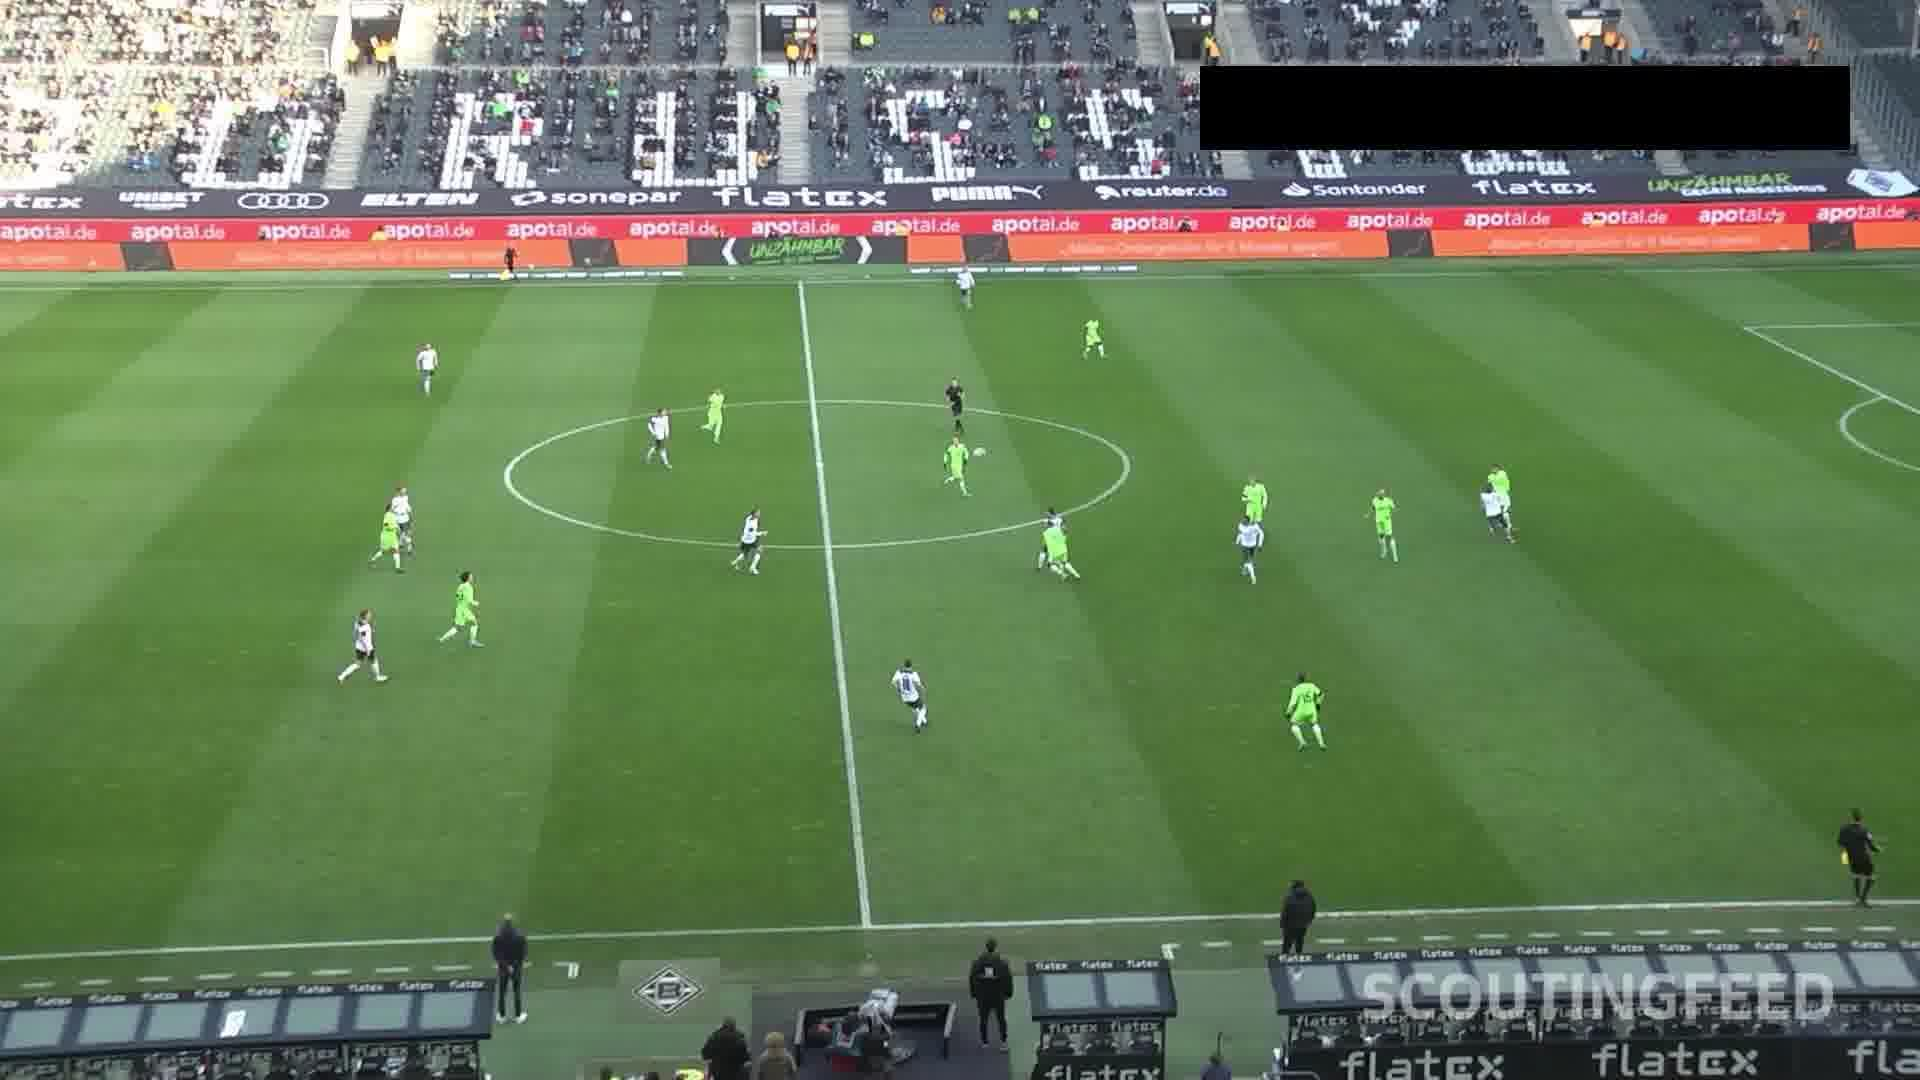football: (972, 448, 988, 456)
